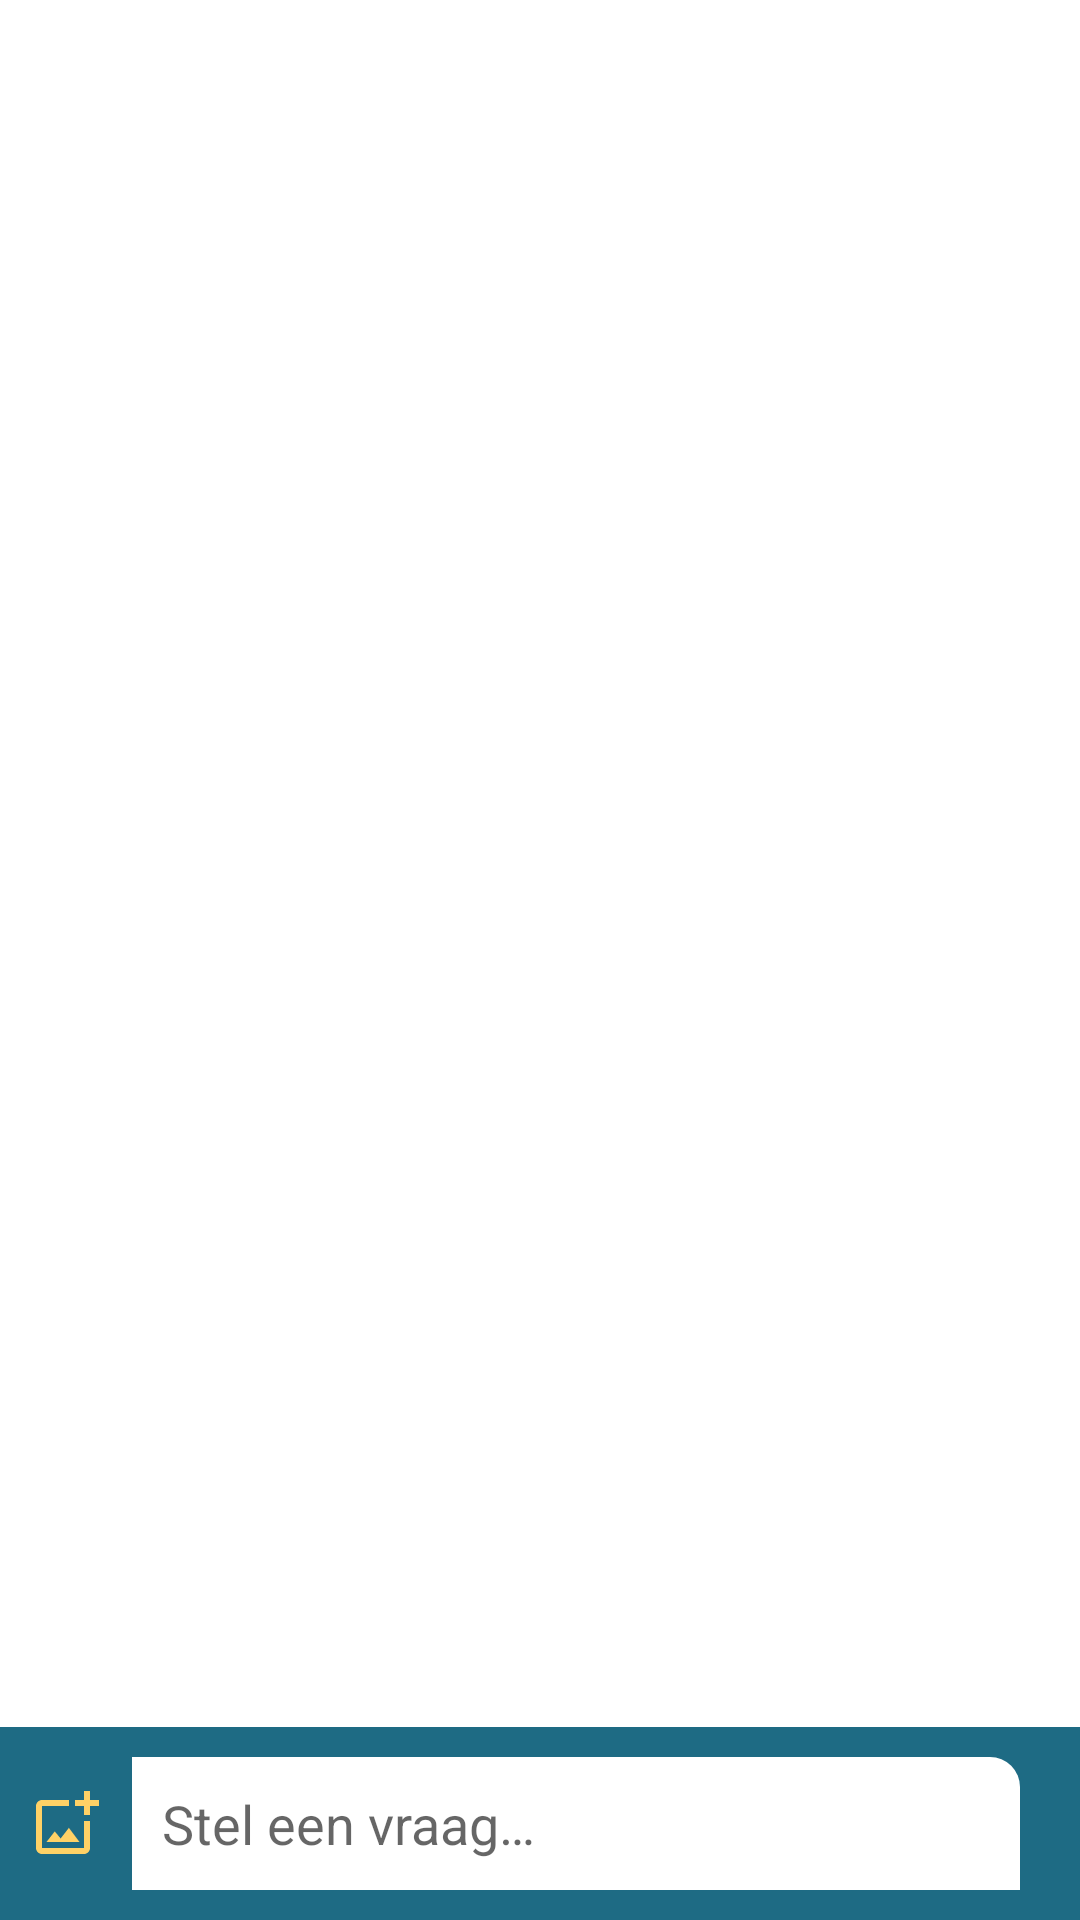

Where icons sit on this 1080w x 1920h app screen, as box=[x1, y1, x2, y2]:
Add image button: box=[36, 1791, 99, 1854]
